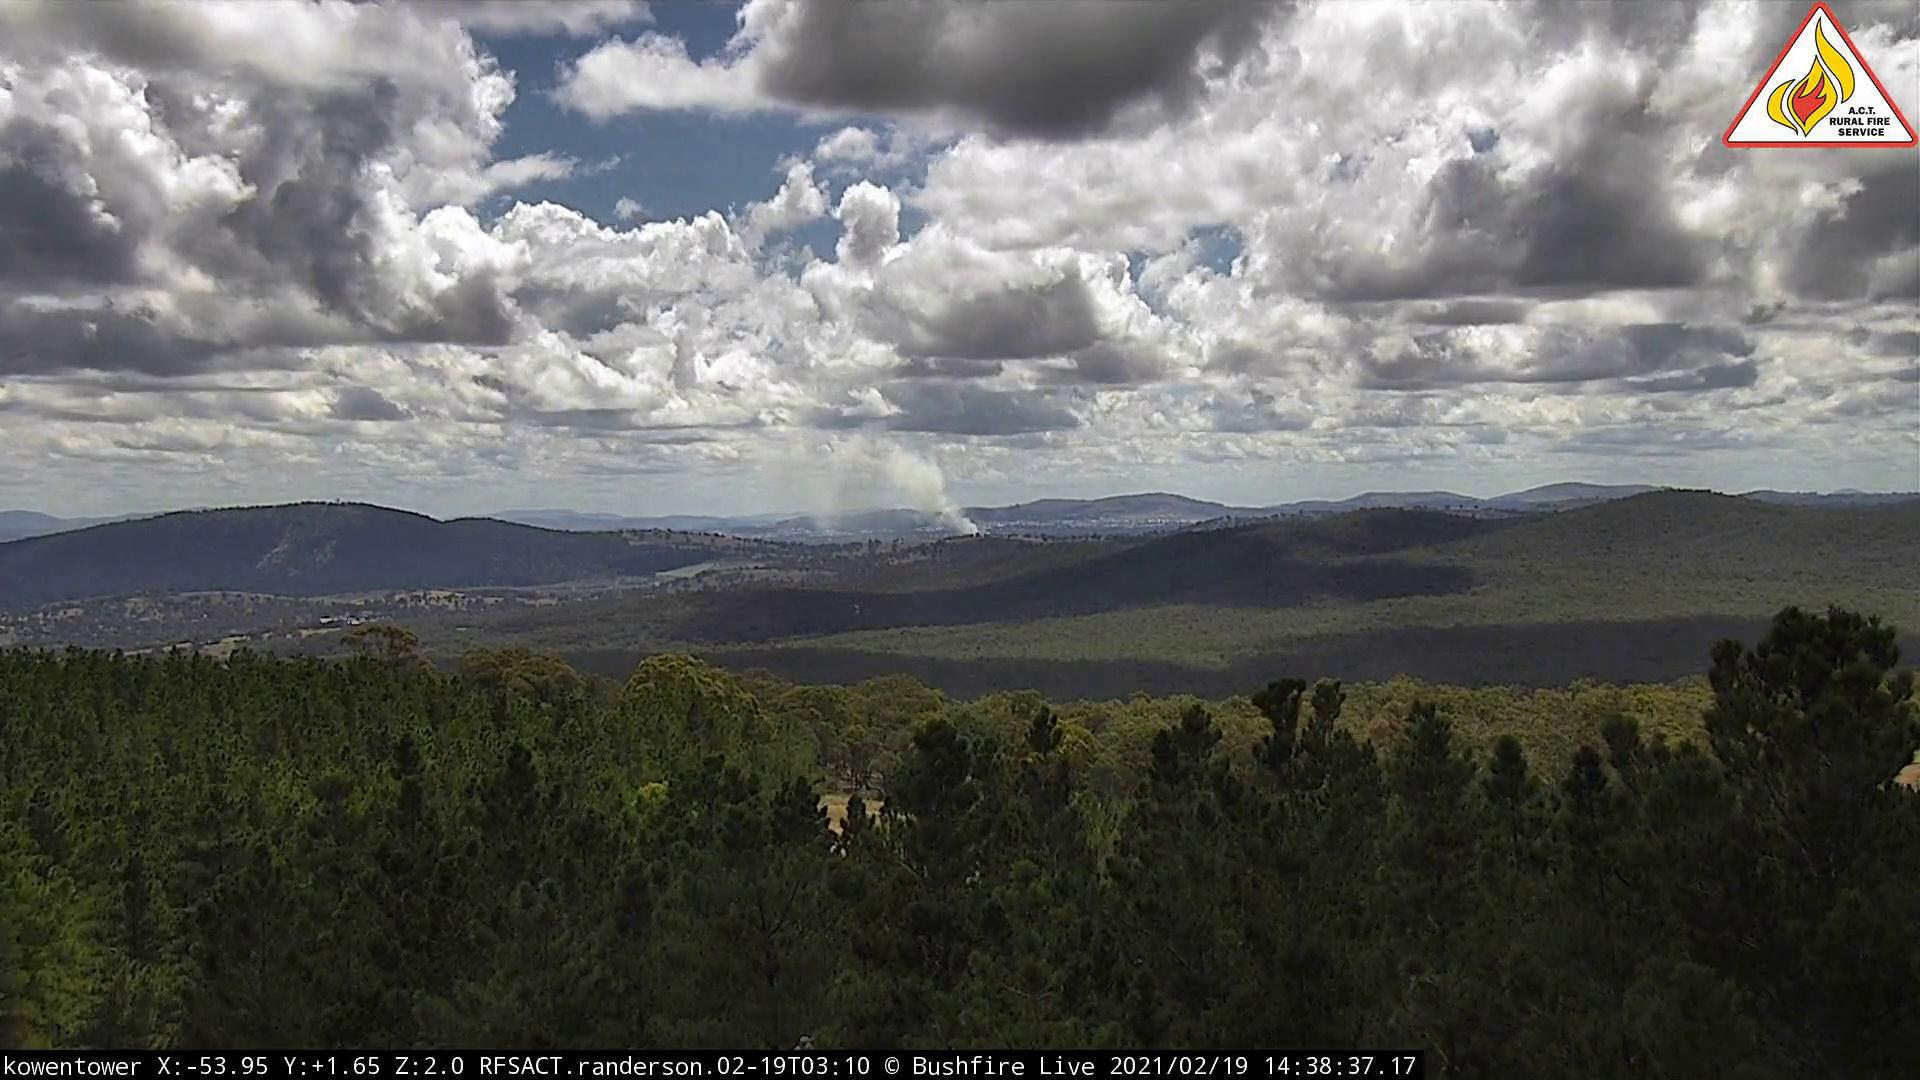instance_salient_object: (754, 427, 988, 545)
